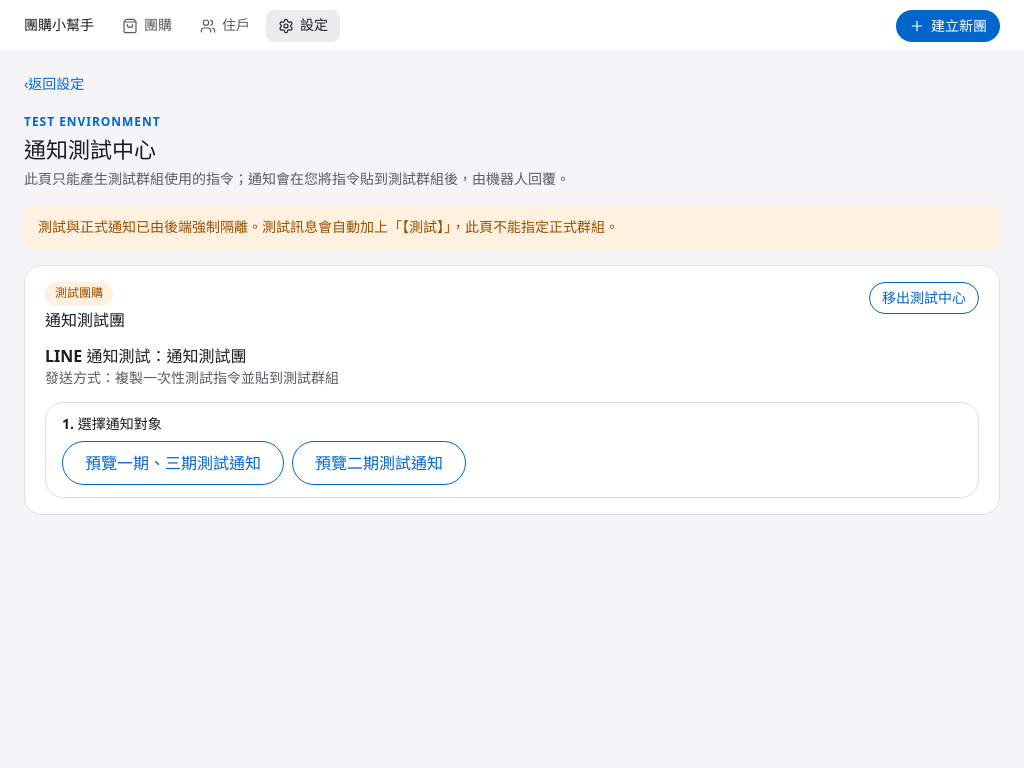
Scenario: local Supabase visual demo apps › keeps the committed marker state when mutation succeeds without a second list refresh
This screenshot has width=1024, height=768.
Step 1. Click the button with aria-label "將通知測試團移出通知測試中心" → point(924, 298), box [869,282,979,314]
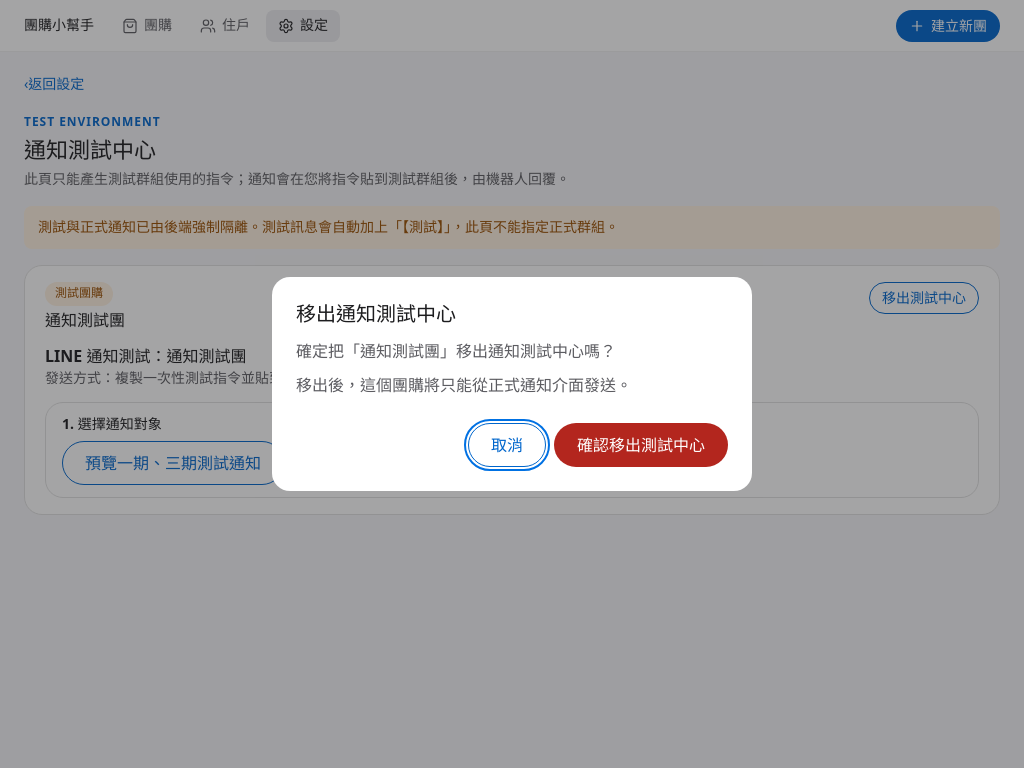
Step 2. Click the button "確認移出測試中心" → point(641, 445), box [554,423,728,467]
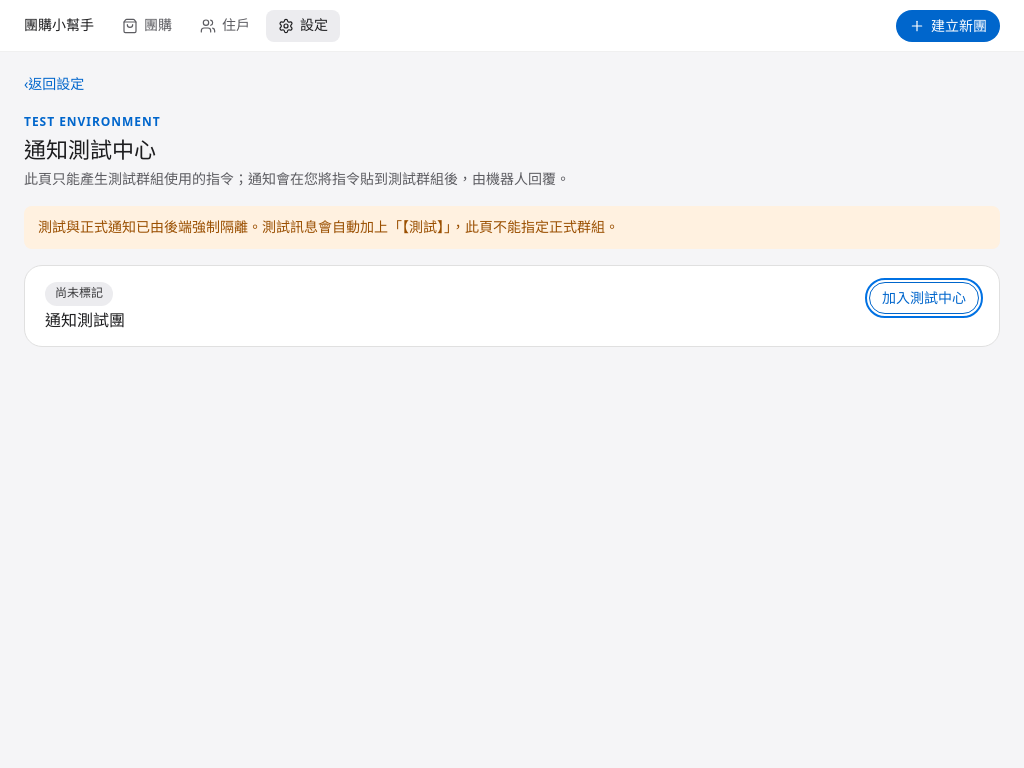
Check: the button with aria-label "將通知測試團加入通知測試中心" is shown, box [869,282,979,314]
